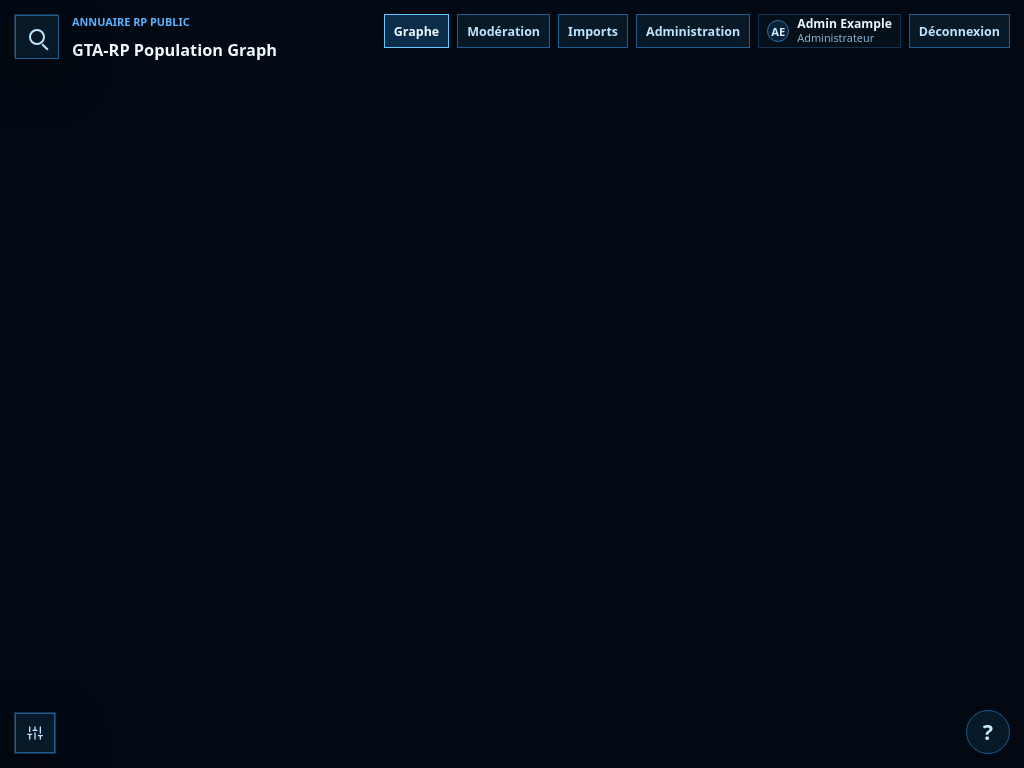
App › loads admin RGPD data, marks anonymized accounts and confirms anonymization explicitly
The width and height of the screenshot is (1024, 768).
Click the button "Administration" at (693, 31), box [636,14,750,48]
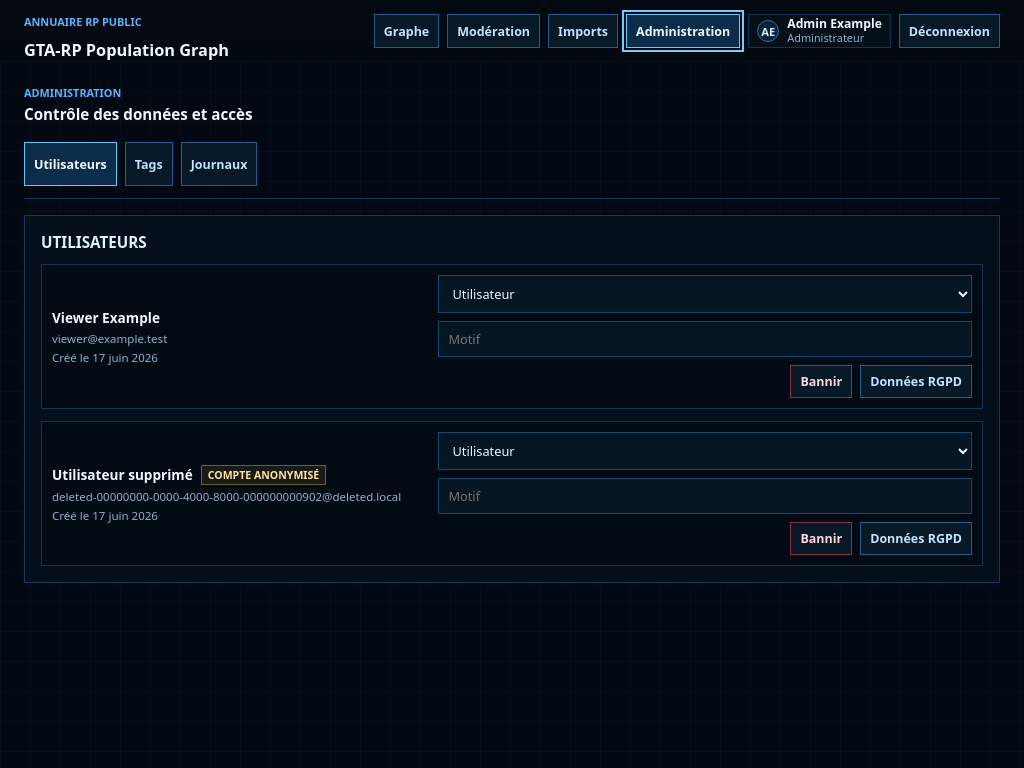
Expected: the text "Compte anonymisé" is shown, [201,464,326,484]
Click the 1st button "Données RGPD" at (916, 382), box [860,365,972,398]
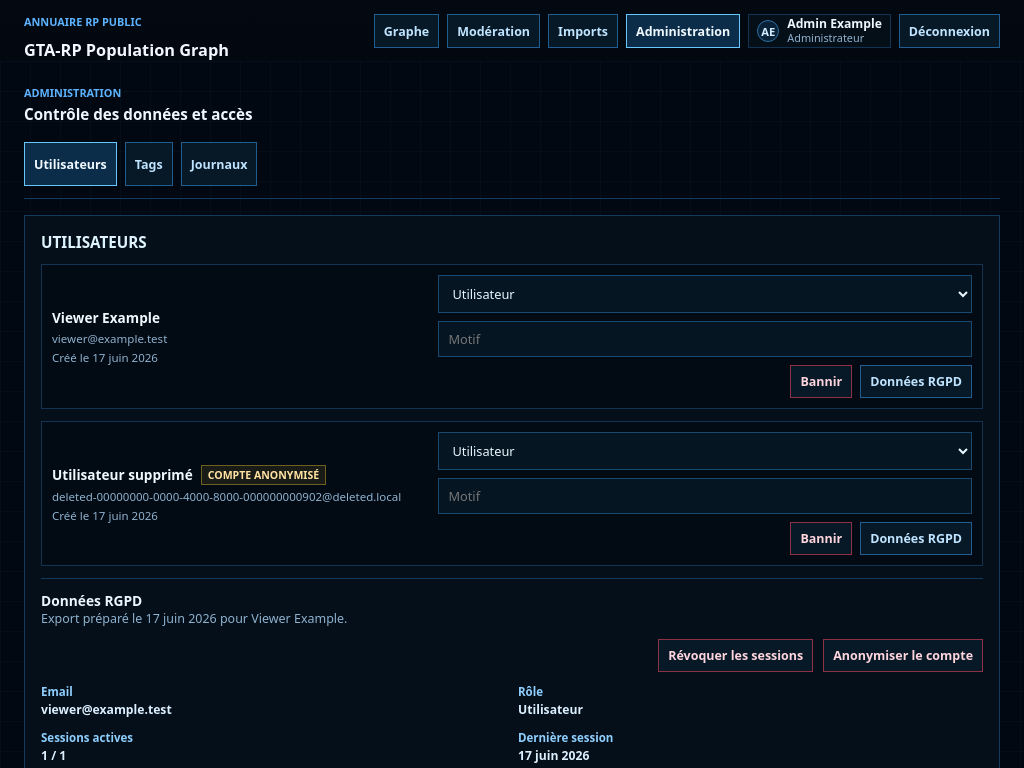
Expected: the heading "Données RGPD" is shown, [41,591,142,610]
Click the button "Anonymiser le compte" at (903, 656), box [823,639,983,672]
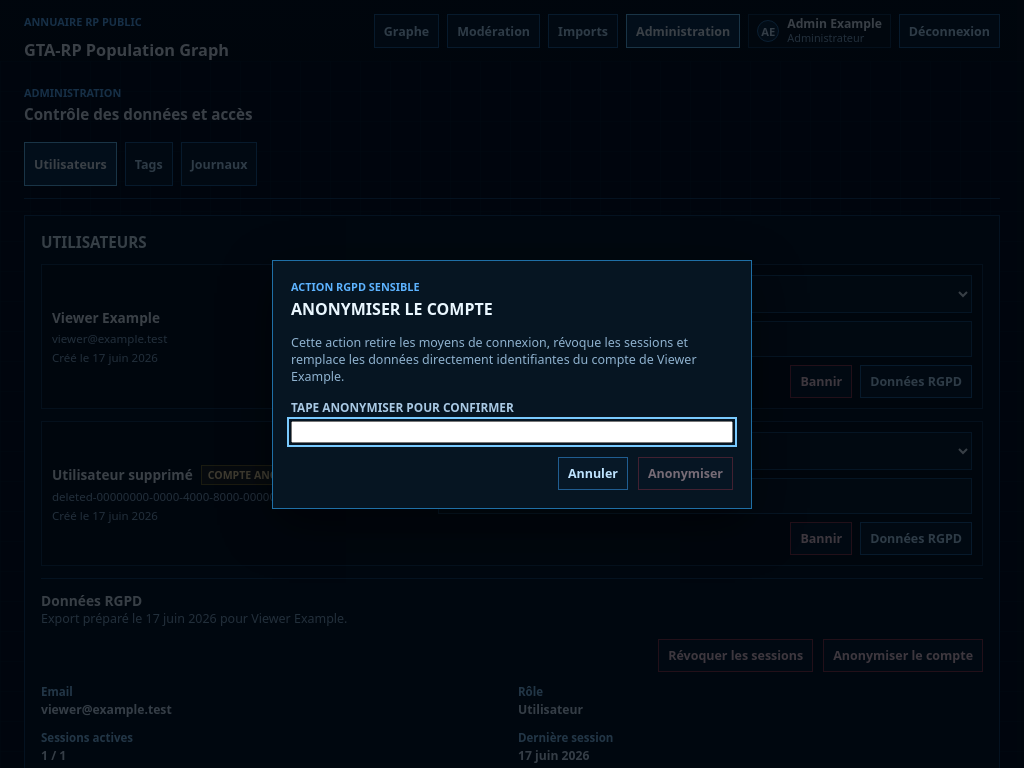
Expected: the dialog "Anonymiser le compte" is shown, [272,260,752,508]
Expected: the button "Anonymiser" is disabled, [638,456,733,490]
Type "ANONYMISER" into the field labelled "Tape ANONYMISER pour confirmer" at (512, 432), box [291,420,733,442]
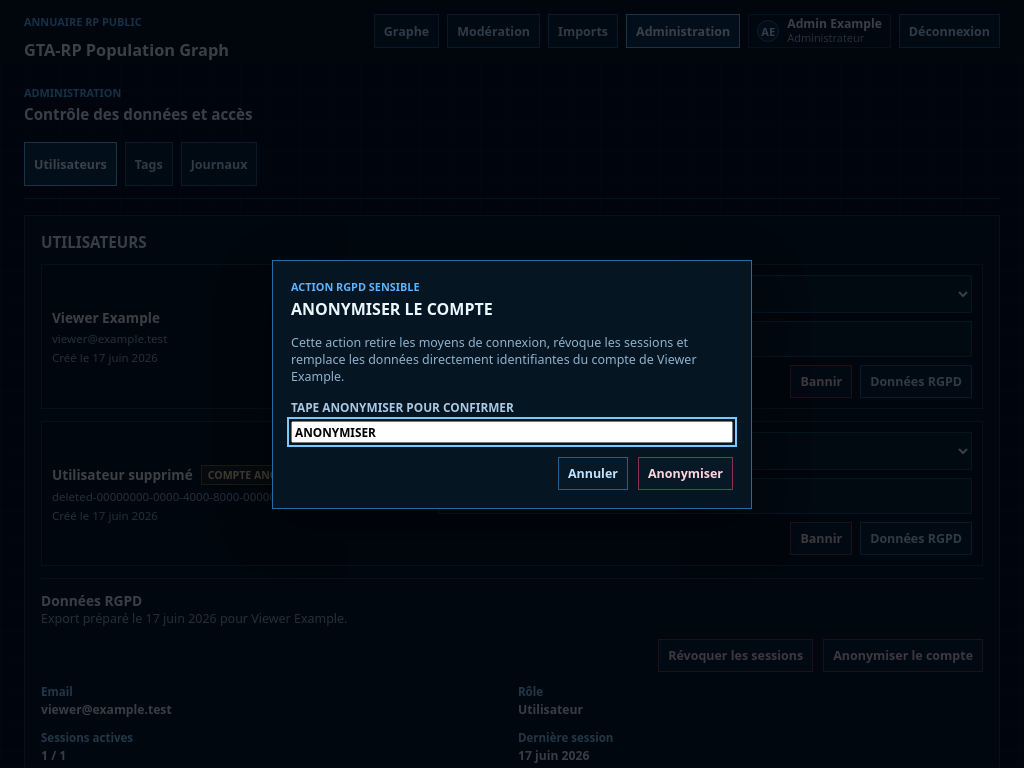
Click the button "Anonymiser" at (685, 473), box [638,456,733,490]
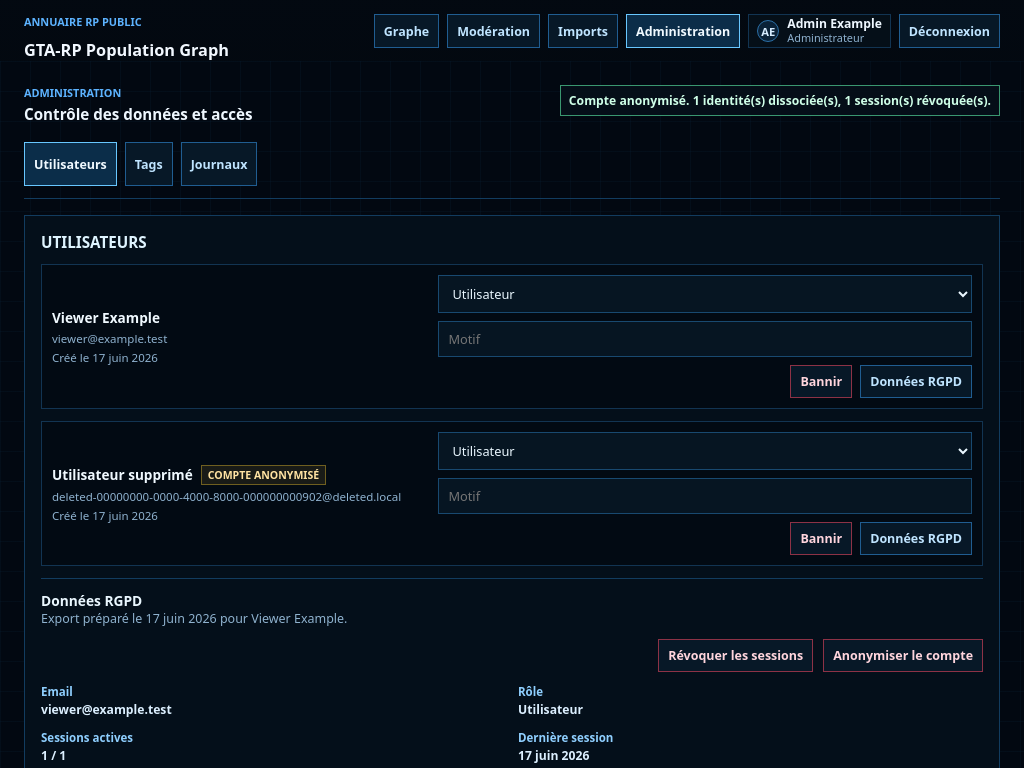
Expected: the text "Compte anonymisé" is shown, [569,92,991,109]
